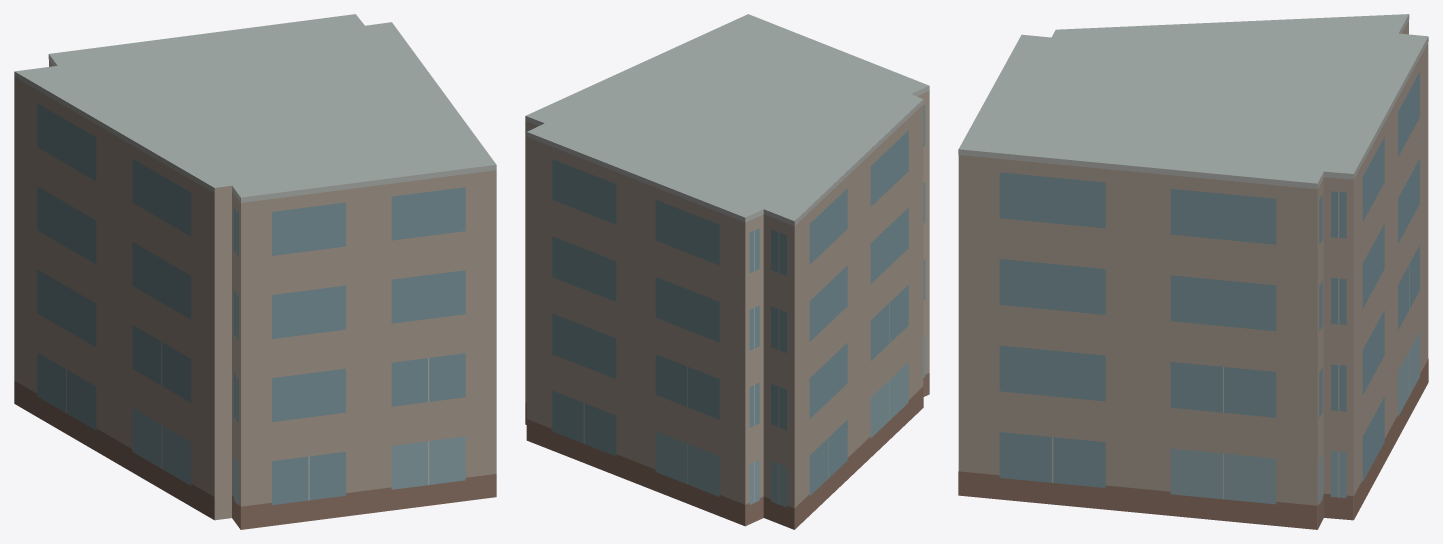
The model's file is survey-upis-32845001.glb.
The picture shows the model from 3 angles, left to right: view 1: azimuth 30°, elevation 25°; view 2: azimuth 150°, elevation 25°; view 3: azimuth 270°, elevation 25°; orthographic projection. The views are drawn at different scales.
Parts seen in each view (by area): view 1: survey-upis-32845001.tmp; view 2: survey-upis-32845001.tmp; view 3: survey-upis-32845001.tmp.
Boxes of the visible parts, box(x1,y1,x2,y2) form: survey-upis-32845001.tmp: box(14, 14, 496, 529); survey-upis-32845001.tmp: box(525, 14, 929, 529); survey-upis-32845001.tmp: box(958, 14, 1428, 529).
Bounding box in the file's own units: 15.77 × 15 × 18.46.
